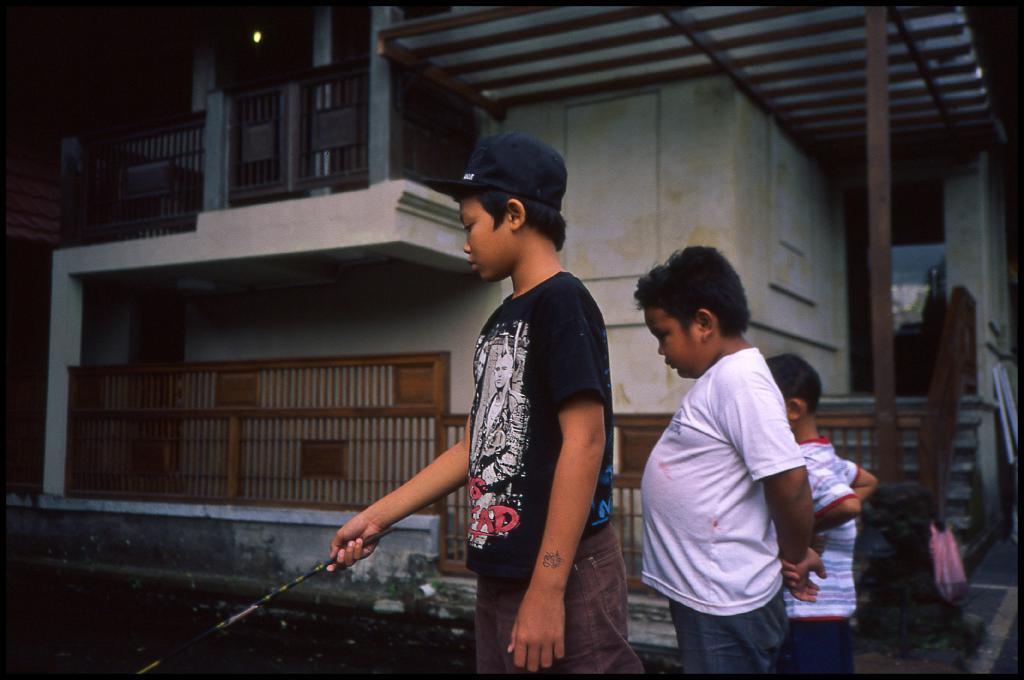Hat: (417, 130, 564, 210)
